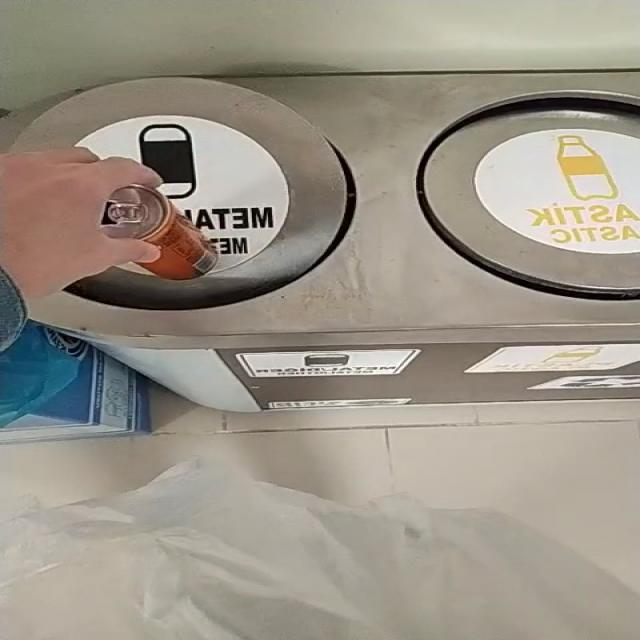bin: (13, 71, 640, 412)
metal: (100, 184, 216, 280)
